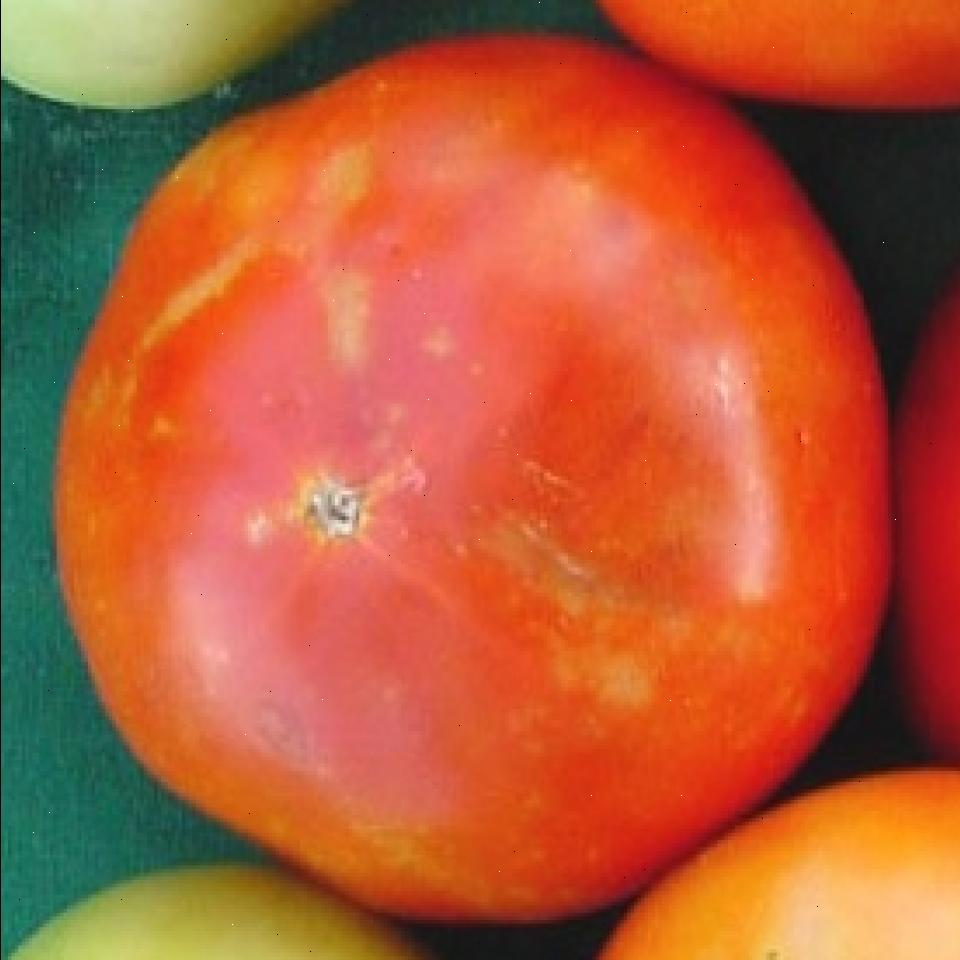Spotted wilt Virus: (47, 39, 896, 926)
